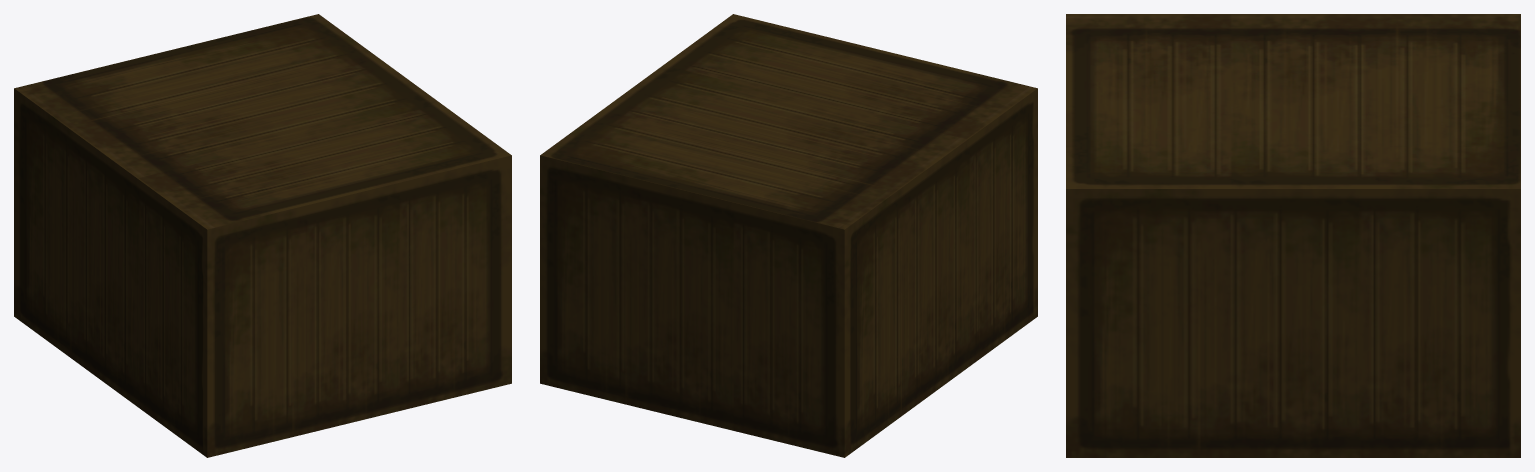
File: ShippingCrate_Big.fbx
3 views of the same model, side by side, from view 1: azimuth 30°, elevation 25°; view 2: azimuth 150°, elevation 25°; view 3: azimuth 270°, elevation 25° (orthographic). The views are drawn at different scales.
Parts seen in each view (by area): view 1: pCube52; view 2: pCube52; view 3: pCube52.
Part boxes in pixels (box(x1,y1,x2,y2)): pCube52: box(14, 14, 511, 457); pCube52: box(540, 14, 1037, 457); pCube52: box(1066, 14, 1520, 457).
Bounding box in the file's own units: 26.97 × 19.32 × 29.62.
